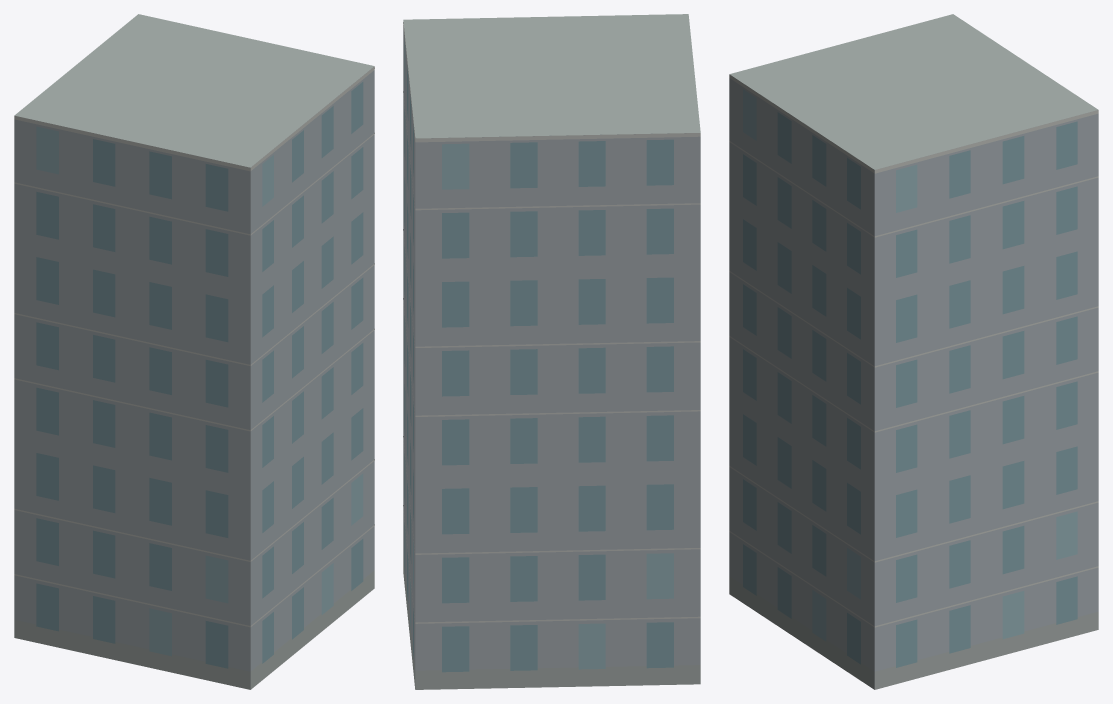
Rendered from survey-upis-32714563.glb.
3 views of the same model, side by side, from view 1: azimuth 30°, elevation 25°; view 2: azimuth 150°, elevation 25°; view 3: azimuth 270°, elevation 25° (orthographic). The views are drawn at different scales.
Visible parts, largest first — view 1: survey-upis-32714563.tmp; view 2: survey-upis-32714563.tmp; view 3: survey-upis-32714563.tmp.
Boxes of the visible parts, x1,y1,x2,y2 form: survey-upis-32714563.tmp: [14, 14, 374, 689]; survey-upis-32714563.tmp: [403, 14, 700, 689]; survey-upis-32714563.tmp: [729, 14, 1098, 689].
Bounding box in the file's own units: 21.9 × 34 × 21.91.
